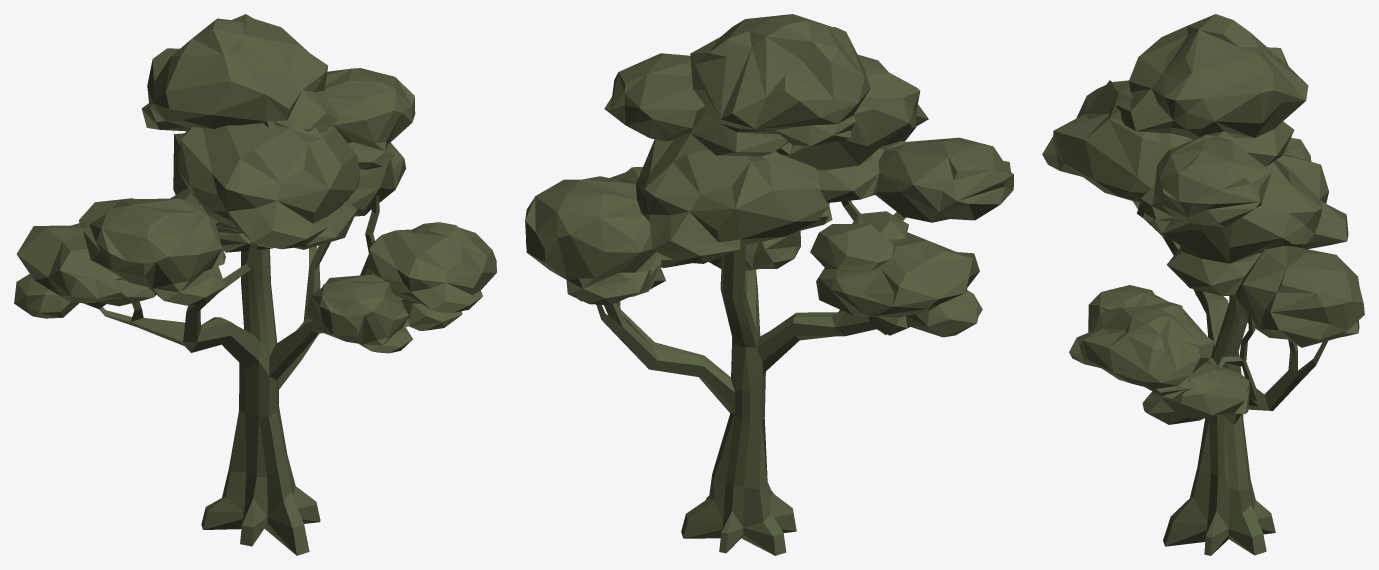
Rendered from kingdom_SM_Env_Tree_Large_01.gltf.
3 views of the same model, side by side, from view 1: azimuth 30°, elevation 25°; view 2: azimuth 150°, elevation 25°; view 3: azimuth 270°, elevation 25° (orthographic). The views are drawn at different scales.
Visible parts, largest first — view 1: SM_Env_Tree_Large_01; view 2: SM_Env_Tree_Large_01; view 3: SM_Env_Tree_Large_01.
Part boxes in pixels (<box>): SM_Env_Tree_Large_01: <box>14,14,496,555</box>; SM_Env_Tree_Large_01: <box>525,14,1013,555</box>; SM_Env_Tree_Large_01: <box>1042,14,1364,555</box>.
Bounding box in the file's own units: 14.53 × 16.89 × 9.88.
Materials: 1 (1 with a texture image).
